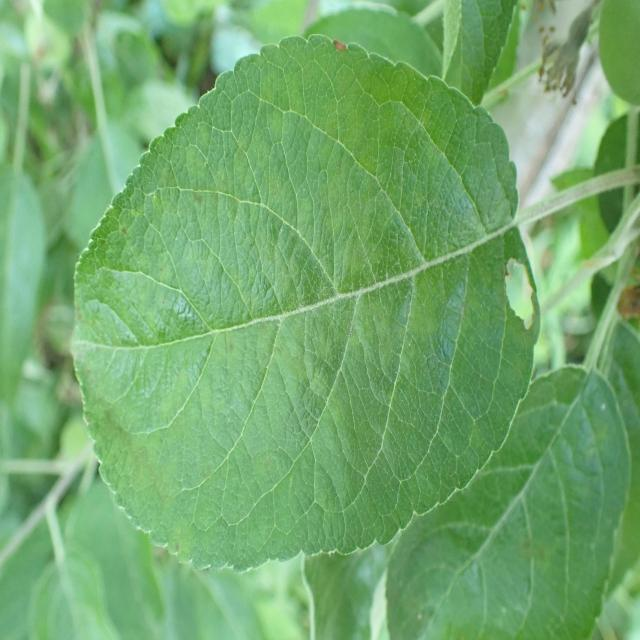scab: (60, 104, 507, 480)
